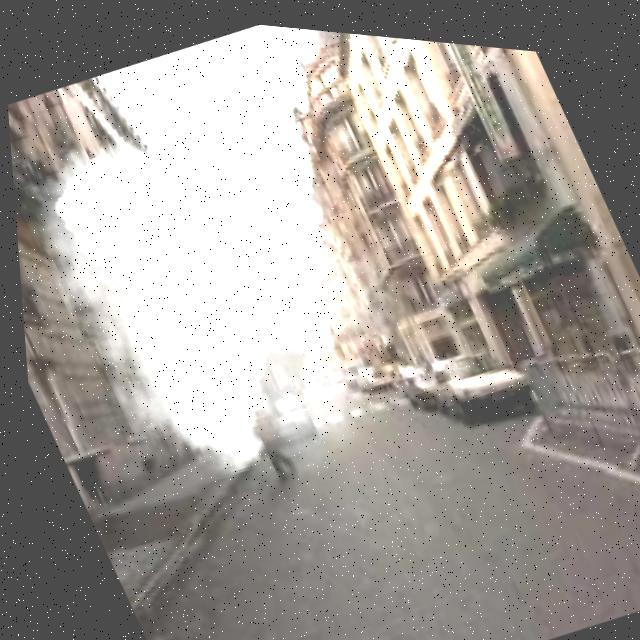Smoke: (9, 53, 471, 528)
